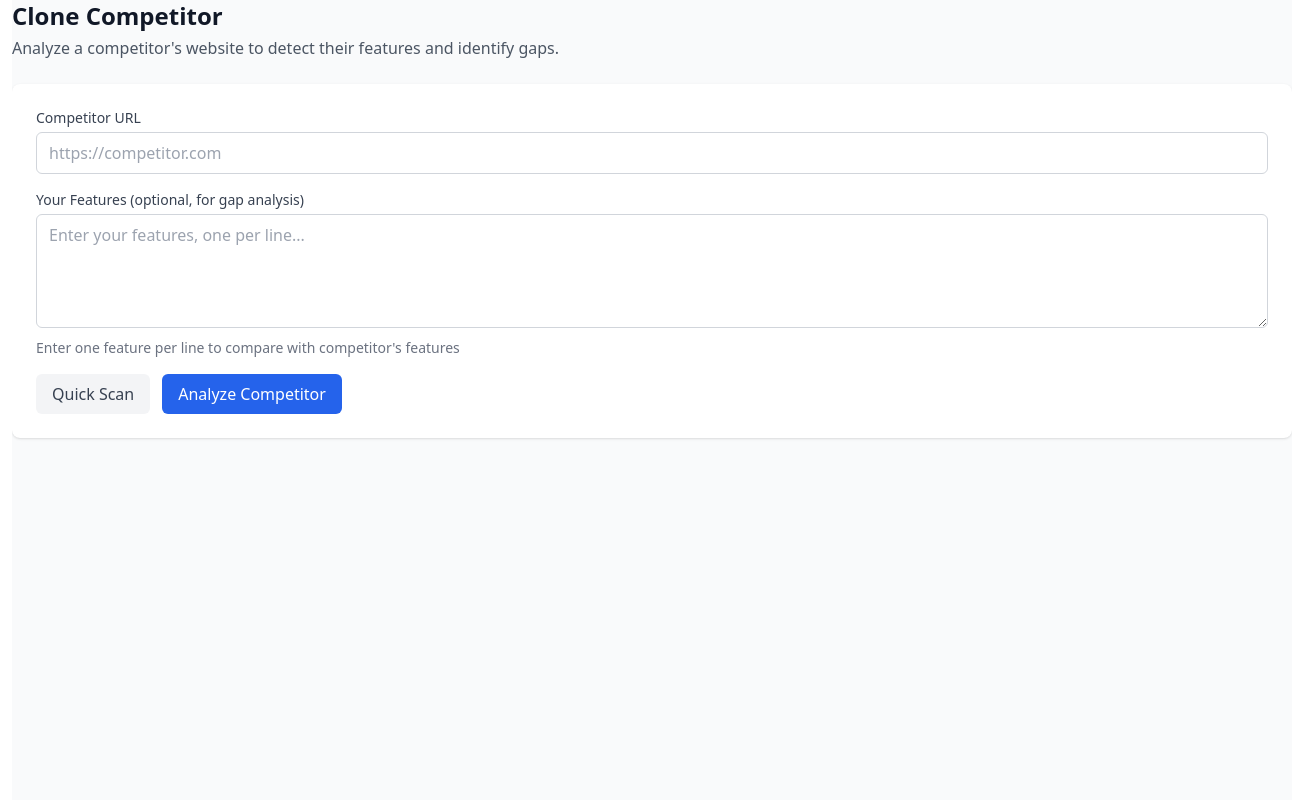
ClonePage › should perform full analysis successfully
This screenshot has width=1292, height=800.
Type "https://test.com" into the field labelled "Competitor URL" at (652, 153), box [36,132,1268,174]
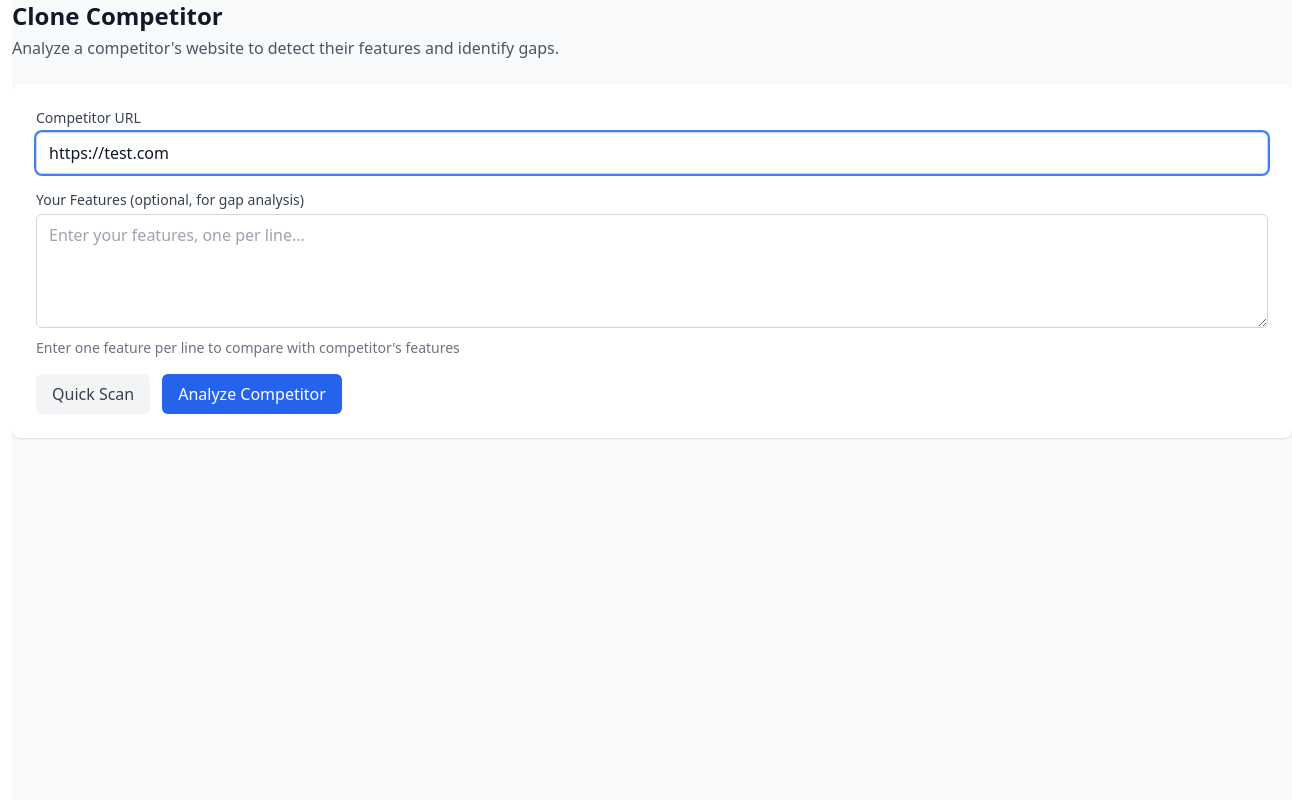
Click the button "Analyze Competitor" at (252, 394), box [162,374,342,414]
(page scrolled)
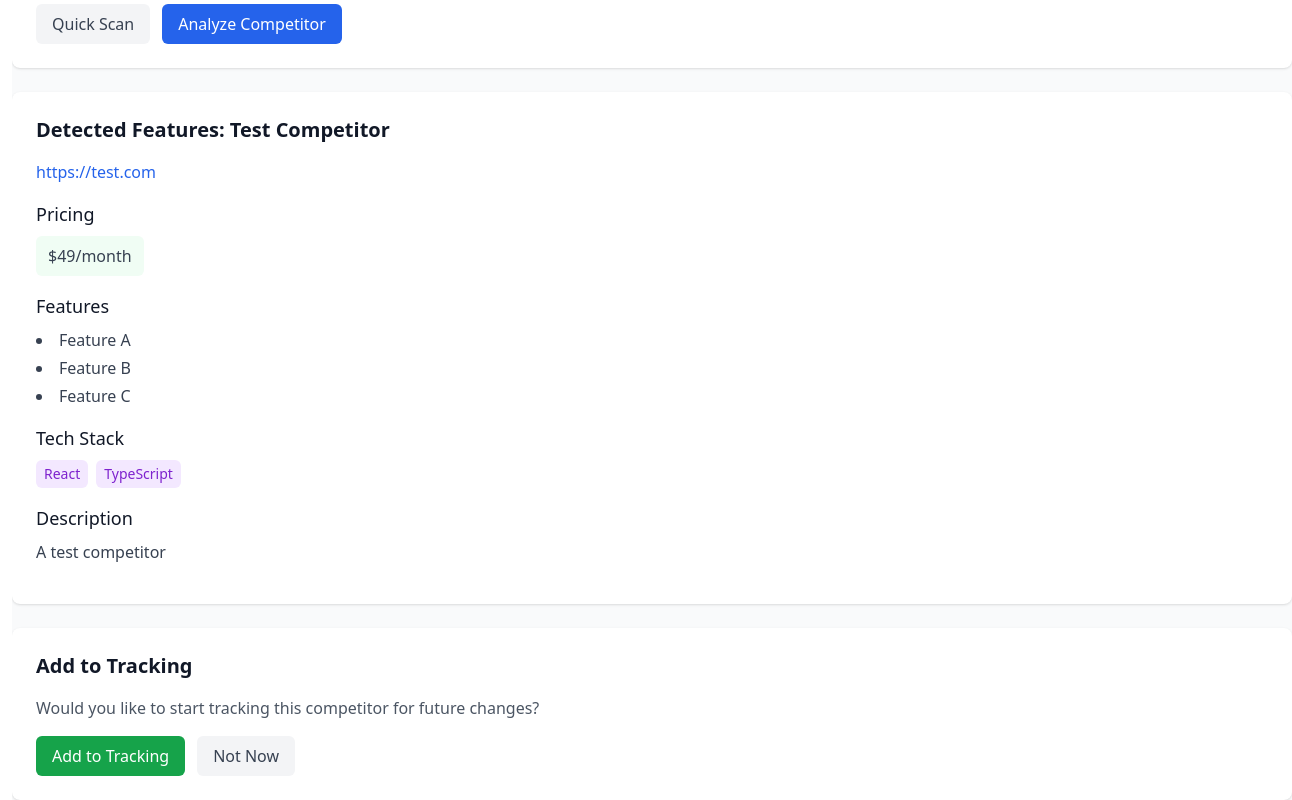
Check: the heading "Detected Features: Test Competitor" is shown, box [36,116,390,143]
Check: the list item "Feature A" is shown, box [59,329,131,351]
Check: the text "$49/month" is shown, box [36,236,144,276]
